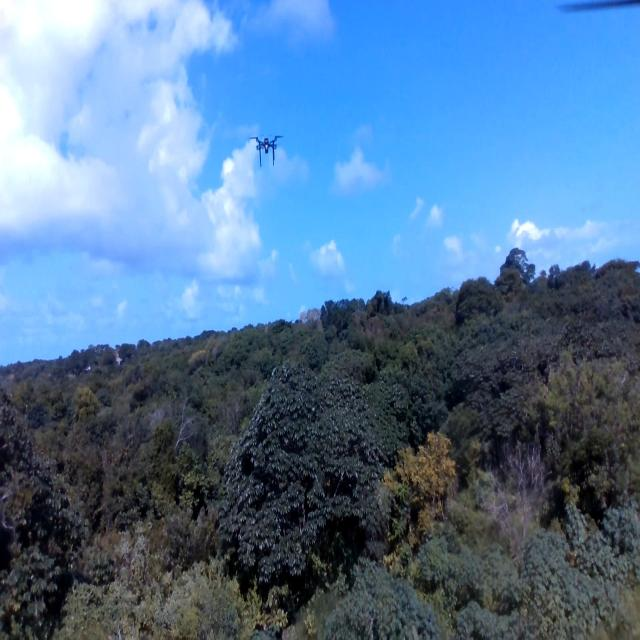-uav-: (244, 122, 289, 182)
